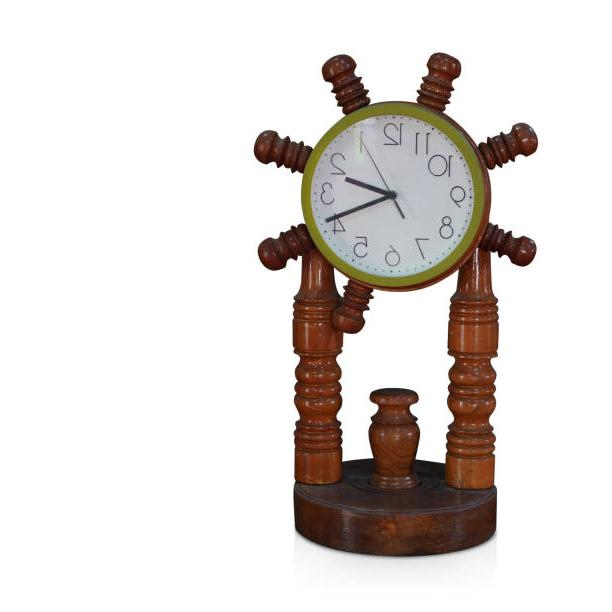clock: (303, 106, 481, 287)
